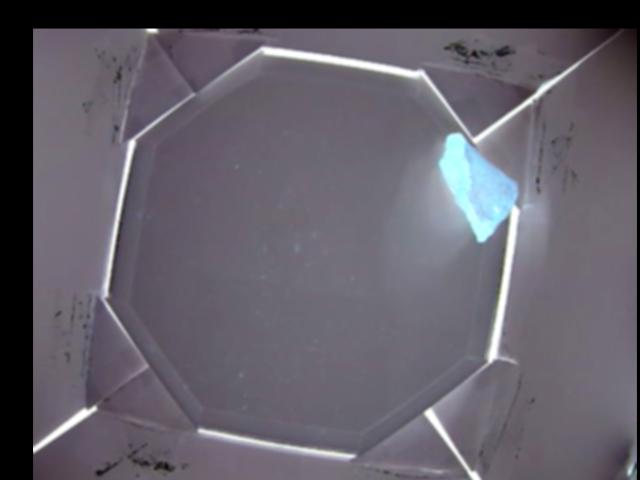Brisk: (439, 133, 518, 238)
